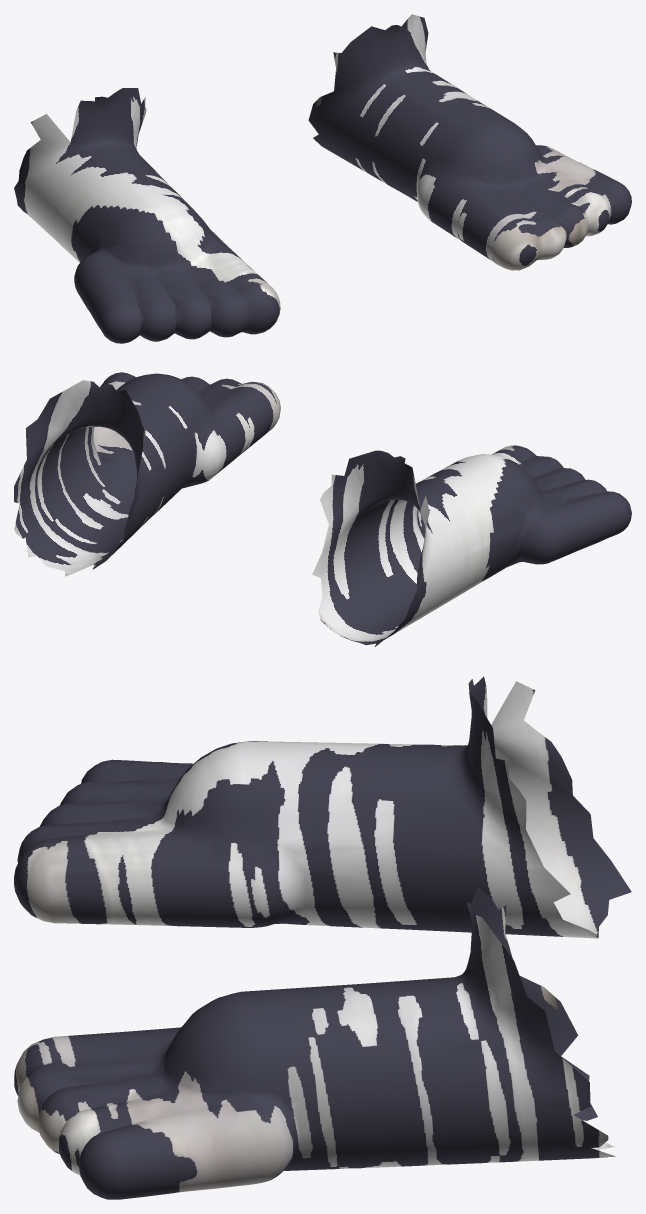
Rendered from tabi.glb.
3 views of the same model, one above another, from view 1: azimuth 30°, elevation 25°; view 2: azimuth 150°, elevation 25°; view 3: azimuth 270°, elevation 25° (orthographic). The views are drawn at different scales.
Parts seen in each view (by area): view 1: tabi_Left, tabi_Right; view 2: tabi_Right, tabi_Left; view 3: tabi_Right, tabi_Left.
Part boxes in pixels (x1,y1,x2,y2): tabi_Left: (308,14,631,270); tabi_Right: (14,88,280,343); tabi_Right: (312,445,631,646); tabi_Left: (14,372,280,576); tabi_Right: (14,676,631,938); tabi_Left: (14,887,615,1199).
Size of the model in its own units: 0.371 by 0.1074 by 0.2423.
Materials: 1 (1 with a texture image).
